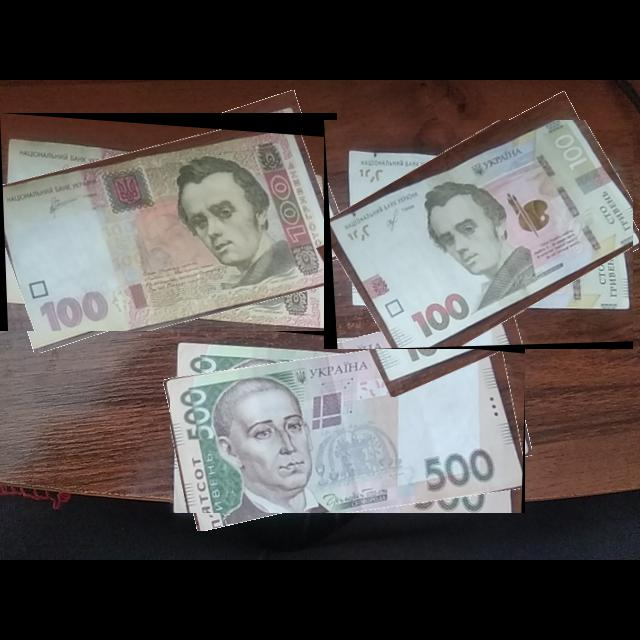100uah: (0, 113, 338, 332), (324, 120, 634, 350)
500uah: (170, 322, 526, 514)
